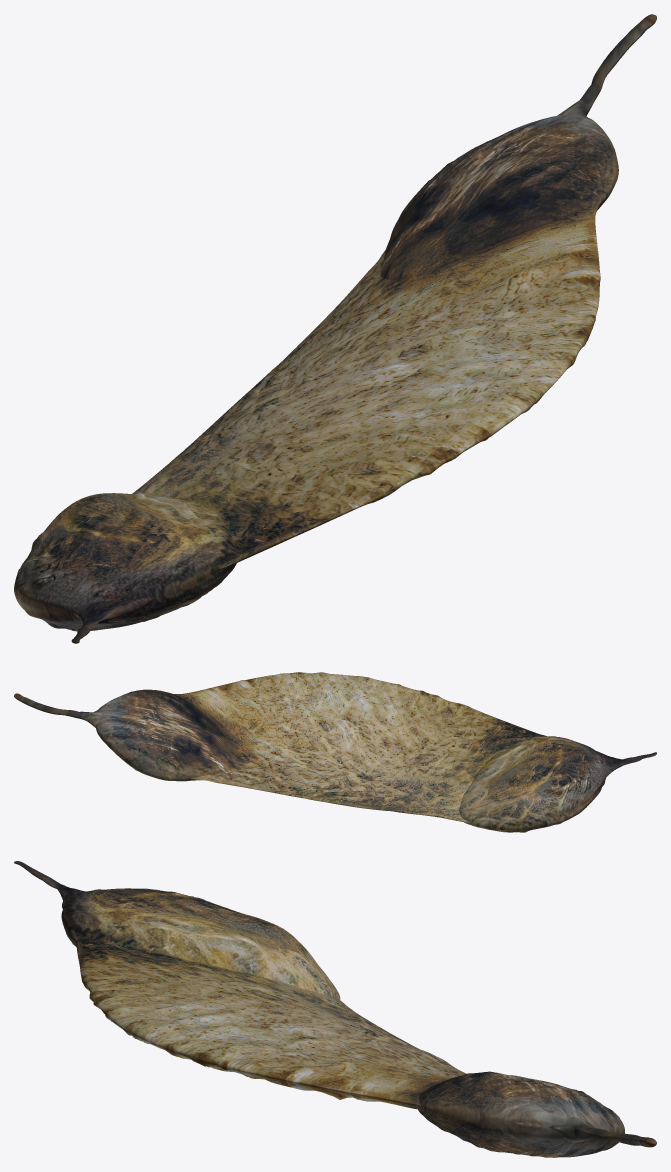
Rendered from asset.glb.
3 views of the same model, one above another, from view 1: azimuth 30°, elevation 25°; view 2: azimuth 150°, elevation 25°; view 3: azimuth 270°, elevation 25° (orthographic). The views are drawn at different scales.
Visible parts, largest first — view 1: tipa3; view 2: tipa3; view 3: tipa3.
Part boxes in pixels (x1,y1,x2,y2): tipa3: [14, 14, 656, 643]; tipa3: [14, 672, 656, 832]; tipa3: [14, 861, 656, 1157].
Size of the model in its own units: 3.33 by 0.8077 by 2.19.
Materials: 1 (1 with a texture image).
